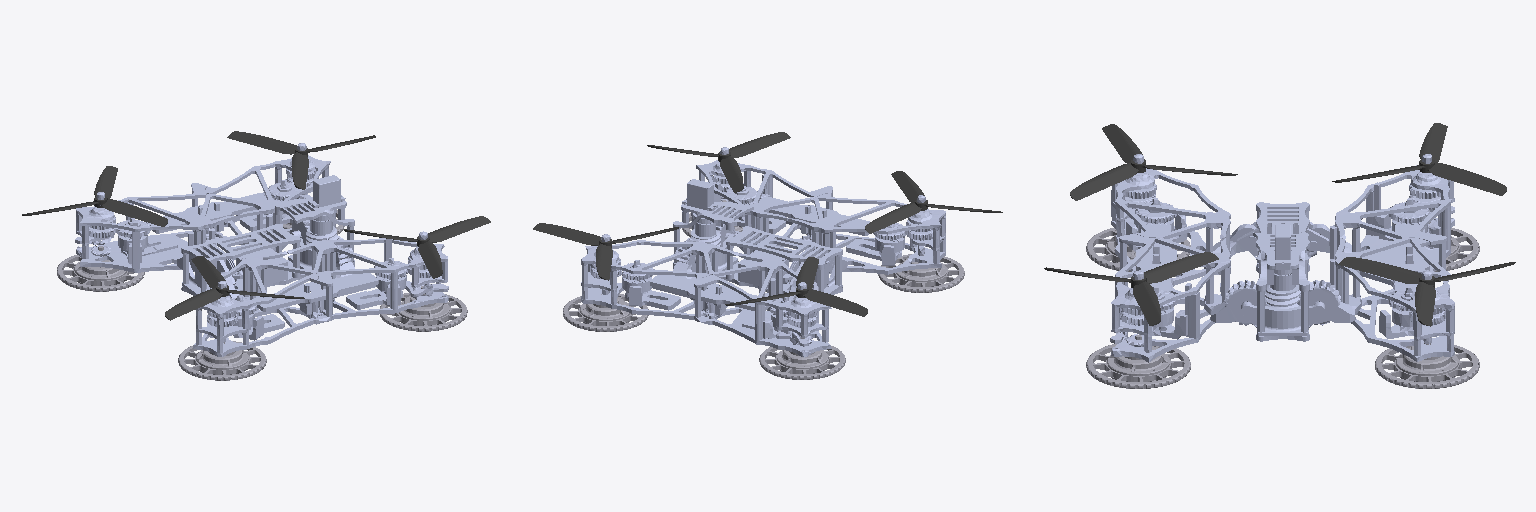
robot.urdf — robot:
<?xml version="1.0"?>
<robot name="robot">
  <link name="base">
    <inertial>
      <origin xyz="-0.04666826 0.00001225 0.02272175" rpy="0 0 0"/>
      <mass value="0.12128087"/>
      <inertia ixx="0.00006449" ixy="0" ixz="-0.00003421" iyy="0.00033419" iyz="1e-8" izz="0.00030231"/>
    </inertial>
    <visual>
      <origin xyz="0 0 0" rpy="0 0 0"/>
      <geometry><mesh filename="meshes/base_collision.stl"/></geometry>
      <material name="base_color"><color rgba="0.79215686 0.81960784 0.93333333 1"/></material>
    </visual>
    <collision>
      <origin xyz="0 0 0" rpy="0 0 0"/>
      <geometry><mesh filename="meshes/base_collision.stl"/></geometry>
    </collision>
  </link>
  <link name="link1">
    <inertial>
      <origin xyz="-6.6e-7 -0.0000014 0.00414836" rpy="0 0 0"/>
      <mass value="0.00345126"/>
      <inertia ixx="0.00000256" ixy="0" ixz="0" iyy="0.00000255" iyz="0" izz="0.0000051"/>
    </inertial>
    <visual>
      <origin xyz="0 0 0" rpy="0 0 0"/>
      <geometry><mesh filename="meshes/link1_collision.stl"/></geometry>
      <material name="link1_color"><color rgba="0.30980392 0.30980392 0.30980392 1"/></material>
    </visual>
    <collision>
      <origin xyz="0 0 0" rpy="0 0 0"/>
      <geometry><mesh filename="meshes/link1_collision.stl"/></geometry>
    </collision>
  </link>
  <link name="link2">
    <inertial>
      <origin xyz="-9e-7 0.00000121 0.00414837" rpy="0 0 0"/>
      <mass value="0.00345128"/>
      <inertia ixx="0.00000256" ixy="0" ixz="0" iyy="0.00000255" iyz="0" izz="0.0000051"/>
    </inertial>
    <visual>
      <origin xyz="0 0 0" rpy="0 0 0"/>
      <geometry><mesh filename="meshes/link2_collision.stl"/></geometry>
      <material name="link2_color"><color rgba="0.30980392 0.30980392 0.30980392 1"/></material>
    </visual>
    <collision>
      <origin xyz="0 0 0" rpy="0 0 0"/>
      <geometry><mesh filename="meshes/link2_collision.stl"/></geometry>
    </collision>
  </link>
  <link name="link3">
    <inertial>
      <origin xyz="1e-7 0.0000015 0.00414837" rpy="0 0 0"/>
      <mass value="0.00345128"/>
      <inertia ixx="0.00000256" ixy="0" ixz="0" iyy="0.00000255" iyz="0" izz="0.0000051"/>
    </inertial>
    <visual>
      <origin xyz="0 0 0" rpy="0 0 0"/>
      <geometry><mesh filename="meshes/link3_collision.stl"/></geometry>
      <material name="link3_color"><color rgba="0.30980392 0.30980392 0.30980392 1"/></material>
    </visual>
    <collision>
      <origin xyz="0 0 0" rpy="0 0 0"/>
      <geometry><mesh filename="meshes/link3_collision.stl"/></geometry>
    </collision>
  </link>
  <link name="link4">
    <inertial>
      <origin xyz="4.5e-7 -0.00000148 0.00414836" rpy="0 0 0"/>
      <mass value="0.00345126"/>
      <inertia ixx="0.00000256" ixy="0" ixz="0" iyy="0.00000255" iyz="0" izz="0.0000051"/>
    </inertial>
    <visual>
      <origin xyz="0 0 0" rpy="0 0 0"/>
      <geometry><mesh filename="meshes/link4_collision.stl"/></geometry>
      <material name="link4_color"><color rgba="0.30980392 0.30980392 0.30980392 1"/></material>
    </visual>
    <collision>
      <origin xyz="0 0 0" rpy="0 0 0"/>
      <geometry><mesh filename="meshes/link4_collision.stl"/></geometry>
    </collision>
  </link>
  <link name="link5">
    <inertial>
      <origin xyz="-6.3e-7 9.4e-7 -0.01290743" rpy="0 0 0"/>
      <mass value="0.05268079"/>
      <inertia ixx="0.00001082" ixy="0" ixz="0" iyy="0.00001082" iyz="0" izz="0.00001792"/>
    </inertial>
    <visual>
      <origin xyz="0 0 0" rpy="0 0 0"/>
      <geometry><mesh filename="meshes/link5_collision.stl"/></geometry>
      <material name="link5_color"><color rgba="0.7 0.7 0.75 1"/></material>
    </visual>
    <collision>
      <origin xyz="0 0 0" rpy="0 0 0"/>
      <geometry><mesh filename="meshes/link5_collision.stl"/></geometry>
    </collision>
  </link>
  <link name="link6">
    <inertial>
      <origin xyz="6.3e-7 -9.4e-7 -0.01290743" rpy="0 0 0"/>
      <mass value="0.05268079"/>
      <inertia ixx="0.00001082" ixy="0" ixz="0" iyy="0.00001082" iyz="0" izz="0.00001792"/>
    </inertial>
    <visual>
      <origin xyz="0 0 0" rpy="0 0 0"/>
      <geometry><mesh filename="meshes/link6_collision.stl"/></geometry>
      <material name="link6_color"><color rgba="0.7 0.7 0.75 1"/></material>
    </visual>
    <collision>
      <origin xyz="0 0 0" rpy="0 0 0"/>
      <geometry><mesh filename="meshes/link6_collision.stl"/></geometry>
    </collision>
  </link>
  <link name="link7">
    <inertial>
      <origin xyz="-6.3e-7 9.4e-7 -0.01290743" rpy="0 0 0"/>
      <mass value="0.05268079"/>
      <inertia ixx="0.00001082" ixy="0" ixz="0" iyy="0.00001082" iyz="0" izz="0.00001792"/>
    </inertial>
    <visual>
      <origin xyz="0 0 0" rpy="0 0 0"/>
      <geometry><mesh filename="meshes/link7_collision.stl"/></geometry>
      <material name="link7_color"><color rgba="0.7 0.7 0.75 1"/></material>
    </visual>
    <collision>
      <origin xyz="0 0 0" rpy="0 0 0"/>
      <geometry><mesh filename="meshes/link7_collision.stl"/></geometry>
    </collision>
  </link>
  <link name="link8">
    <inertial>
      <origin xyz="6.3e-7 -9.4e-7 -0.01290743" rpy="0 0 0"/>
      <mass value="0.05268079"/>
      <inertia ixx="0.00001082" ixy="0" ixz="0" iyy="0.00001082" iyz="0" izz="0.00001792"/>
    </inertial>
    <visual>
      <origin xyz="0 0 0" rpy="0 0 0"/>
      <geometry><mesh filename="meshes/link8_collision.stl"/></geometry>
      <material name="link8_color"><color rgba="0.7 0.7 0.75 1"/></material>
    </visual>
    <collision>
      <origin xyz="0 0 0" rpy="0 0 0"/>
      <geometry><mesh filename="meshes/link8_collision.stl"/></geometry>
    </collision>
  </link>
  <link name="link9">
    <inertial>
      <origin xyz="-0.05879046 -0.06070239 0.00174875" rpy="0 0 0"/>
      <mass value="0.16704595"/>
      <inertia ixx="0.00016241" ixy="-0.00002946" ixz="-6.2e-7" iyy="0.00097681" iyz="0.00000797" izz="0.0010756"/>
    </inertial>
    <visual>
      <origin xyz="0 0 0" rpy="0 0 0"/>
      <geometry><mesh filename="meshes/link9_collision.stl"/></geometry>
      <material name="link9_color"><color rgba="0.79215686 0.81960784 0.93333333 1"/></material>
    </visual>
    <collision>
      <origin xyz="0 0 0" rpy="0 0 0"/>
      <geometry><mesh filename="meshes/link9_collision.stl"/></geometry>
    </collision>
  </link>
  <link name="link10">
    <inertial>
      <origin xyz="-0.0723525 0.06061795 0.00171307" rpy="0 0 0"/>
      <mass value="0.16700574"/>
      <inertia ixx="0.00016366" ixy="0.0000282" ixz="0.00000304" iyy="0.00098992" iyz="-0.00000809" izz="0.00108998"/>
    </inertial>
    <visual>
      <origin xyz="0 0 0" rpy="0 0 0"/>
      <geometry><mesh filename="meshes/link10_collision.stl"/></geometry>
      <material name="link10_color"><color rgba="0.79215686 0.81960784 0.93333333 1"/></material>
    </visual>
    <collision>
      <origin xyz="0 0 0" rpy="0 0 0"/>
      <geometry><mesh filename="meshes/link10_collision.stl"/></geometry>
    </collision>
  </link>
  <joint name="joint1" type="revolute">
    <parent link="base"/>
    <child link="link9"/>
    <origin xyz="0.0065 -0.0275 0.021" rpy="0 0 0"/>
    <axis xyz="1 0 0"/>
    <limit lower="0" upper="1.57" effort="10" velocity="3"/>
  </joint>
  <joint name="joint2" type="revolute">
    <parent link="base"/>
    <child link="link10"/>
    <origin xyz="0.0065 0.0275 0.021" rpy="0 0 0"/>
    <axis xyz="-1 0 0"/>
    <limit lower="0" upper="1.57" effort="10" velocity="3"/>
  </joint>
  <joint name="joint3" type="continuous">
    <parent link="link9"/>
    <child link="link1"/>
    <origin xyz="0.0365 -0.0825 0.03379" rpy="0 0 0"/>
    <axis xyz="0 0 1"/>
  </joint>
  <joint name="joint4" type="continuous">
    <parent link="link10"/>
    <child link="link2"/>
    <origin xyz="0.0365 0.0825 0.03379" rpy="0 0 0"/>
    <axis xyz="0 0 -1"/>
  </joint>
  <joint name="joint5" type="continuous">
    <parent link="link9"/>
    <child link="link3"/>
    <origin xyz="-0.1735 -0.0825 0.03379" rpy="0 0 0"/>
    <axis xyz="0 0 -1"/>
  </joint>
  <joint name="joint6" type="continuous">
    <parent link="link10"/>
    <child link="link4"/>
    <origin xyz="-0.1735 0.0825 0.03379" rpy="0 0 0"/>
    <axis xyz="0 0 1"/>
  </joint>
  <joint name="joint7" type="continuous">
    <parent link="link9"/>
    <child link="link5"/>
    <origin xyz="0.0365 -0.0825 -0.018" rpy="0 0 0"/>
    <axis xyz="0 0 -1"/>
  </joint>
  <joint name="joint8" type="continuous">
    <parent link="link10"/>
    <child link="link6"/>
    <origin xyz="0.0365 0.0825 -0.018" rpy="0 0 0"/>
    <axis xyz="0 0 1"/>
  </joint>
  <joint name="joint9" type="continuous">
    <parent link="link9"/>
    <child link="link7"/>
    <origin xyz="-0.1735 -0.0825 -0.018" rpy="0 0 0"/>
    <axis xyz="0 0 -1"/>
  </joint>
  <joint name="joint10" type="continuous">
    <parent link="link10"/>
    <child link="link8"/>
    <origin xyz="-0.1735 0.0825 -0.018" rpy="0 0 0"/>
    <axis xyz="0 0 1"/>
  </joint>
  <link name="ref_ref1"/>
  <joint name="ref_ref1_frame" type="fixed">
    <parent link="base"/>
    <child link="ref_ref1"/>
    <origin xyz="0 0 0" rpy="0 0 0"/>
  </joint>
</robot>

--- Render facts (derived) ---
Views: 3 orthographic renders of the robot side by side, from view 1: azimuth 30°, elevation 25°; view 2: azimuth 150°, elevation 25°; view 3: azimuth 270°, elevation 25°.
Robot: robot — 12 links, 11 joints (2 revolute, 8 continuous, 1 fixed); root link base; default pose: all joints at 0.
Links seen in each view (by area): view 1: link9, link10, base, link7, link5, link8, link1, link2, link4, link3; view 2: link10, link9, base, link8, link7, link6, link1, link2, link4, link3; view 3: link10, link9, base, link5, link6, link2, link1, link4, link3, link7, link8.
Link boxes in pixels (left/top/right/bottom): link9: left=193, top=231, right=448, bottom=356; link10: left=75, top=143, right=330, bottom=272; base: left=181, top=175, right=354, bottom=295; link7: left=178, top=341, right=266, bottom=380; link5: left=380, top=286, right=467, bottom=331; link8: left=57, top=246, right=144, bottom=291; link1: left=344, top=216, right=490, bottom=278; link2: left=227, top=131, right=375, bottom=189; link4: left=22, top=166, right=167, bottom=226; link3: left=165, top=256, right=304, bottom=320; link10: left=581, top=234, right=831, bottom=357; link9: left=696, top=147, right=945, bottom=274; base: left=673, top=179, right=842, bottom=294; link8: left=759, top=336, right=845, bottom=379; link7: left=878, top=254, right=964, bottom=292; link6: left=563, top=294, right=648, bottom=331; link1: left=647, top=132, right=790, bottom=192; link2: left=533, top=223, right=678, bottom=280; link4: left=725, top=257, right=867, bottom=316; link3: left=865, top=171, right=1002, bottom=233; link10: left=1297, top=154, right=1454, bottom=361; link9: left=1110, top=154, right=1268, bottom=362; base: left=1237, top=202, right=1328, bottom=341; link5: left=1086, top=335, right=1190, bottom=388; link6: left=1375, top=337, right=1479, bottom=388; link2: left=1338, top=257, right=1515, bottom=326; link1: left=1044, top=252, right=1218, bottom=325; link4: left=1332, top=123, right=1506, bottom=195; link3: left=1070, top=124, right=1237, bottom=200; link7: left=1086, top=227, right=1190, bottom=271; link8: left=1429, top=222, right=1479, bottom=271.
Size in the robot's own frame: 0.3619 by 0.359 by 0.1054 metres.
Meshes: 11 distinct files referenced, 11 mesh visuals loaded (11 binary STL).
